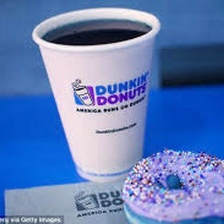paper_cup: (28, 3, 166, 186)
